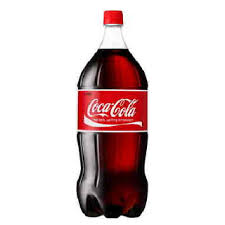coke: (74, 11, 149, 222)
